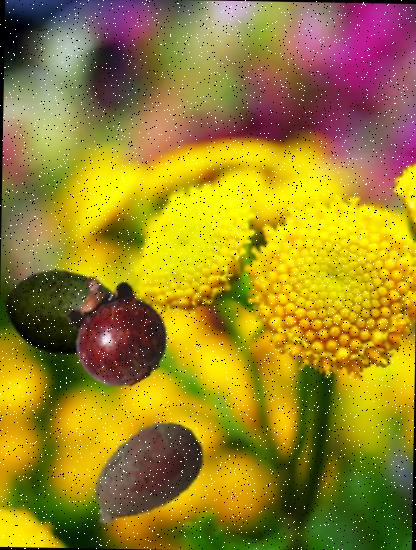Avocado: (3, 250, 131, 378)
Mangostan: (55, 270, 174, 388)
Potato: (78, 406, 210, 538)
